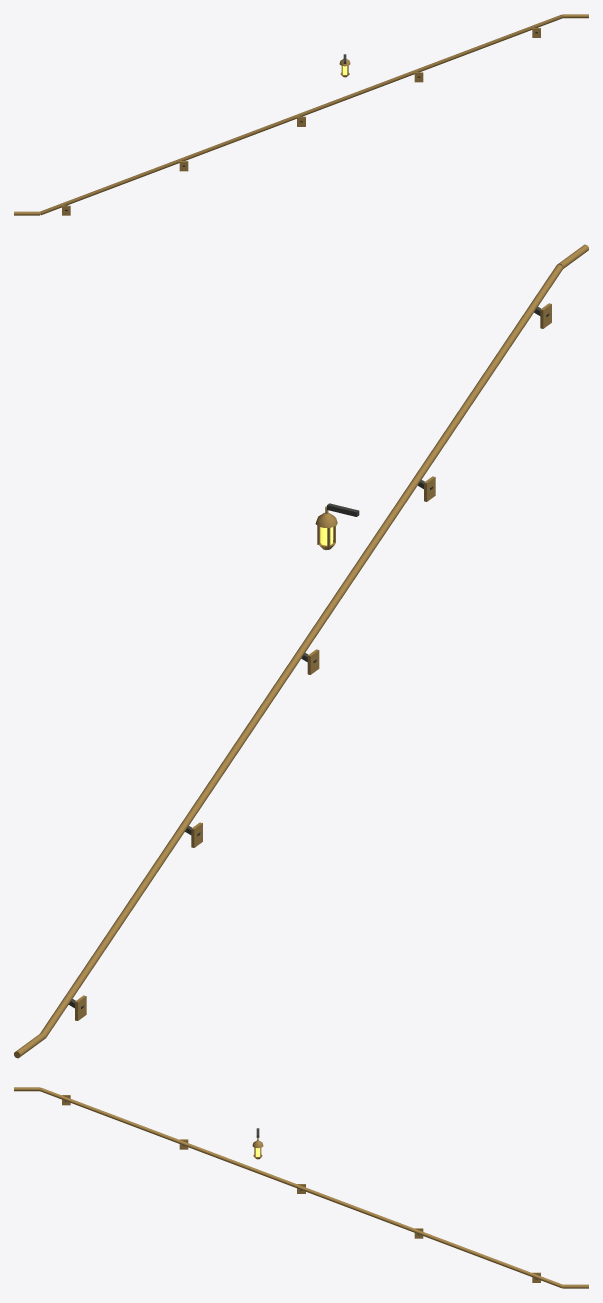
The model's file is stair_rail_12.glb.
The picture shows the model from 3 angles, top to bottom: view 1: azimuth 90°, elevation 25°; view 2: azimuth 150°, elevation 25°; view 3: azimuth 270°, elevation 25°; orthographic projection. The views are drawn at different scales.
Parts seen in each view (by area): view 1: stair_rail_12; view 2: stair_rail_12; view 3: stair_rail_12.
Boxes of the visible parts, x1=… form: stair_rail_12: x1=14, y1=14, x2=588, y2=215; stair_rail_12: x1=14, y1=244, x2=588, y2=1058; stair_rail_12: x1=14, y1=1087, x2=588, y2=1288.
Bounding box in the file's own units: 0.5595 × 5.08 × 13.2.
